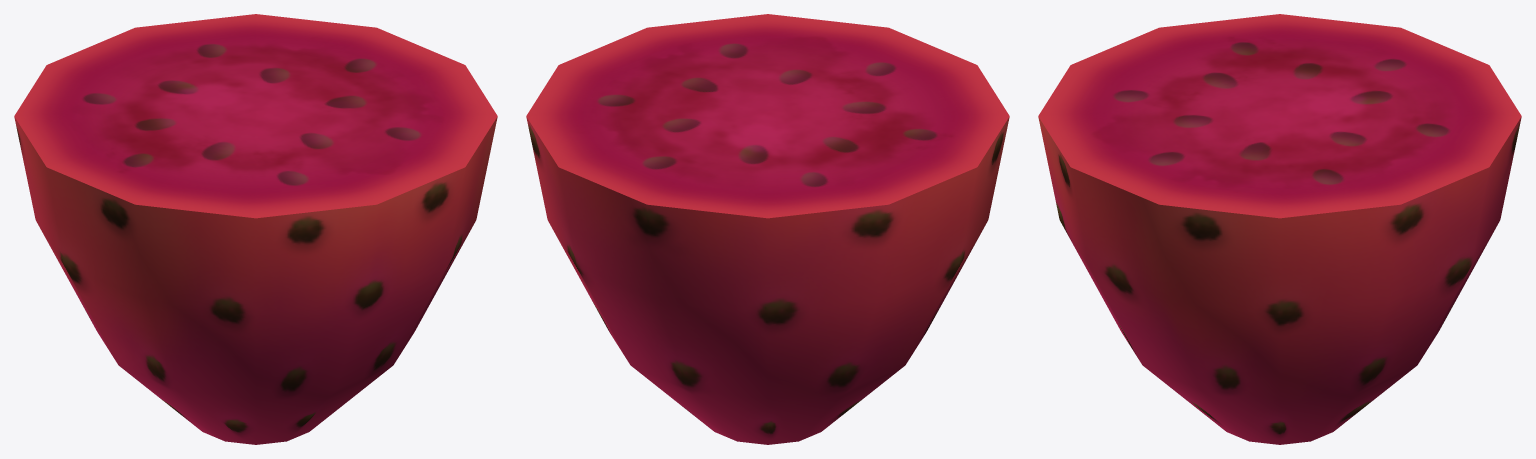
The model's file is PricklyPear_Pink_Half.fbx.
3 views of the same model, side by side, from view 1: azimuth 30°, elevation 25°; view 2: azimuth 150°, elevation 25°; view 3: azimuth 270°, elevation 25° (orthographic).
Parts seen in each view (by area): view 1: PricklyPear_Pink_Half; view 2: PricklyPear_Pink_Half; view 3: PricklyPear_Pink_Half.
Part boxes in pixels (bbox=[...]): PricklyPear_Pink_Half: bbox=[14, 14, 497, 444]; PricklyPear_Pink_Half: bbox=[526, 14, 1009, 444]; PricklyPear_Pink_Half: bbox=[1038, 14, 1521, 444].
Bounding box in the file's own units: 26.57 × 19.9 × 26.57.
Materials: 1 (1 with a texture image).
